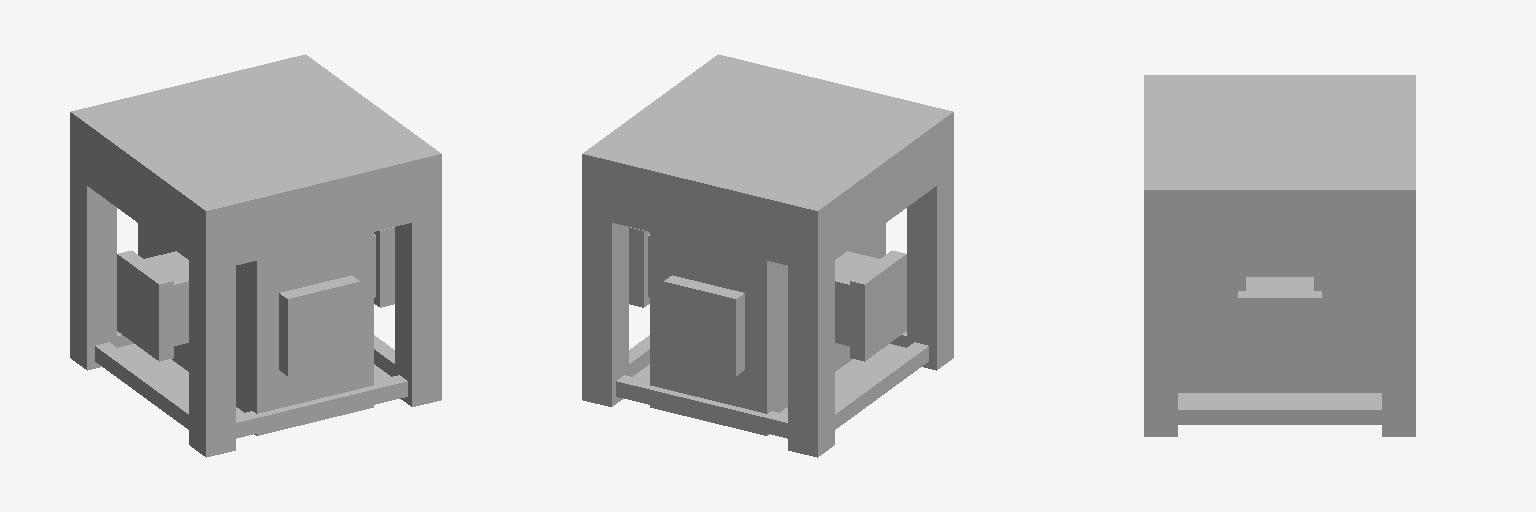
The model's file is belt.obj.
3 views of the same model, side by side, from view 1: azimuth 30°, elevation 25°; view 2: azimuth 150°, elevation 25°; view 3: azimuth 270°, elevation 25° (orthographic).
Visible parts, largest first — view 1: normal, west, east; view 2: normal, west, east; view 3: normal, east.
Boxes of the visible parts, box(x1,y1,x2,y2) form: normal: box(70, 54, 441, 457); west: box(117, 250, 188, 361); east: box(374, 227, 394, 307); normal: box(582, 54, 953, 457); west: box(835, 250, 906, 361); east: box(629, 227, 649, 307); normal: box(1144, 75, 1415, 436); east: box(1238, 277, 1321, 374).
Size of the model in its own units: 1 by 1 by 1.